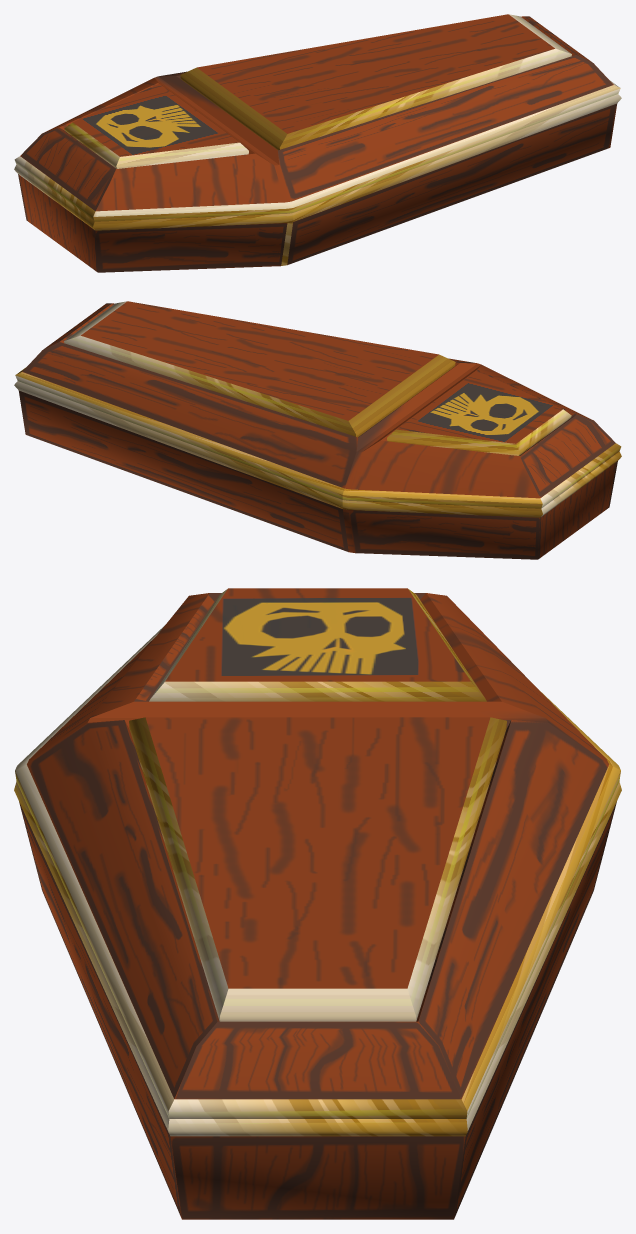
File: Caixao.fbx
3 renders of one model, top to bottom at view 1: azimuth 30°, elevation 25°; view 2: azimuth 150°, elevation 25°; view 3: azimuth 270°, elevation 25°, orthographic. The views are drawn at different scales.
Parts seen in each view (by area): view 1: Caixão; view 2: Caixão; view 3: Caixão.
Boxes of the visible parts, x1,y1,x2,y2 form: Caixão: (14, 14, 621, 272); Caixão: (14, 301, 621, 559); Caixão: (14, 588, 621, 1219).
Size of the model in its own units: 3057 by 578 by 1600.
1 material, 1 textured.
